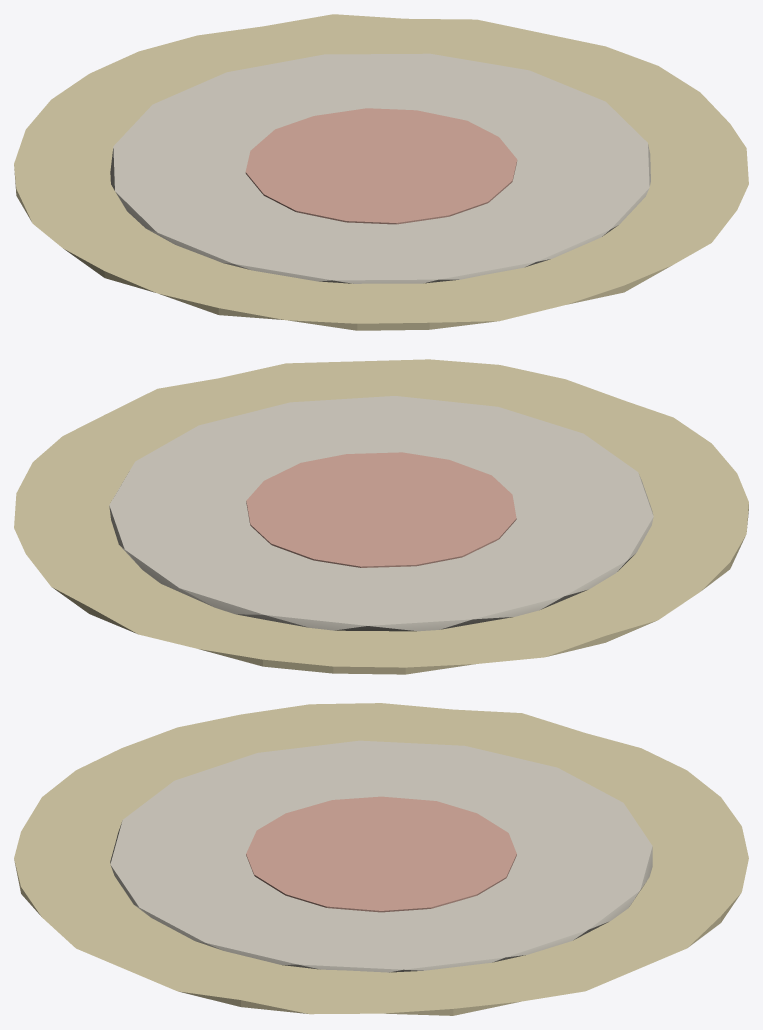
The model's file is furn_rug_round__butter_low.glb.
3 renders of one model, top to bottom at view 1: azimuth 30°, elevation 25°; view 2: azimuth 150°, elevation 25°; view 3: azimuth 270°, elevation 25°, orthographic.
Bounding box in the file's own units: 1.9 × 0.028 × 1.9.
